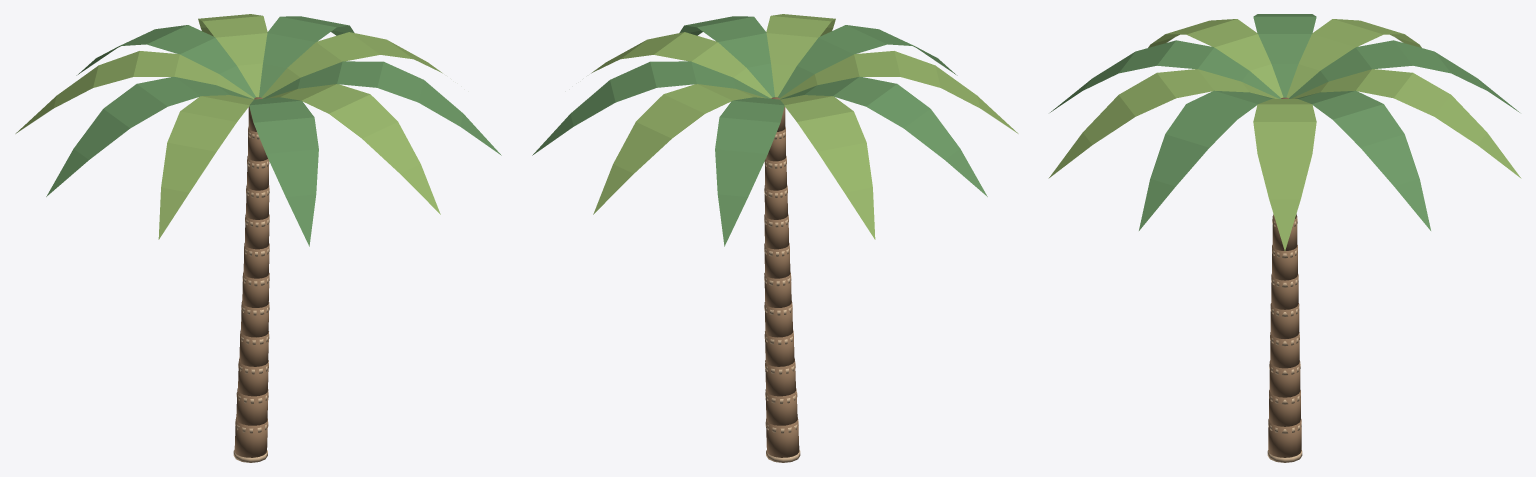
The model's file is palm.glb.
3 views of the same model, side by side, from view 1: azimuth 30°, elevation 25°; view 2: azimuth 150°, elevation 25°; view 3: azimuth 270°, elevation 25° (orthographic).
Visible parts, largest first — view 1: leaf, leaf2, wood, sand; view 2: leaf, leaf2, wood, sand; view 3: leaf2, leaf, wood, sand.
Part boxes in pixels (left/top/right/bottom): leaf: left=46, top=16, right=501, bottom=246; leaf2: left=15, top=14, right=442, bottom=239; wood: left=234, top=97, right=269, bottom=457; sand: left=233, top=132, right=269, bottom=462; leaf: left=532, top=16, right=987, bottom=246; leaf2: left=591, top=14, right=1018, bottom=239; wood: left=764, top=97, right=799, bottom=457; sand: left=764, top=132, right=800, bottom=462; leaf2: left=1048, top=19, right=1521, bottom=250; leaf: left=1050, top=14, right=1519, bottom=230; wood: left=1268, top=97, right=1301, bottom=457; sand: left=1267, top=219, right=1302, bottom=462.
Size of the model in its own units: 6.6 by 5.71 by 6.28.
